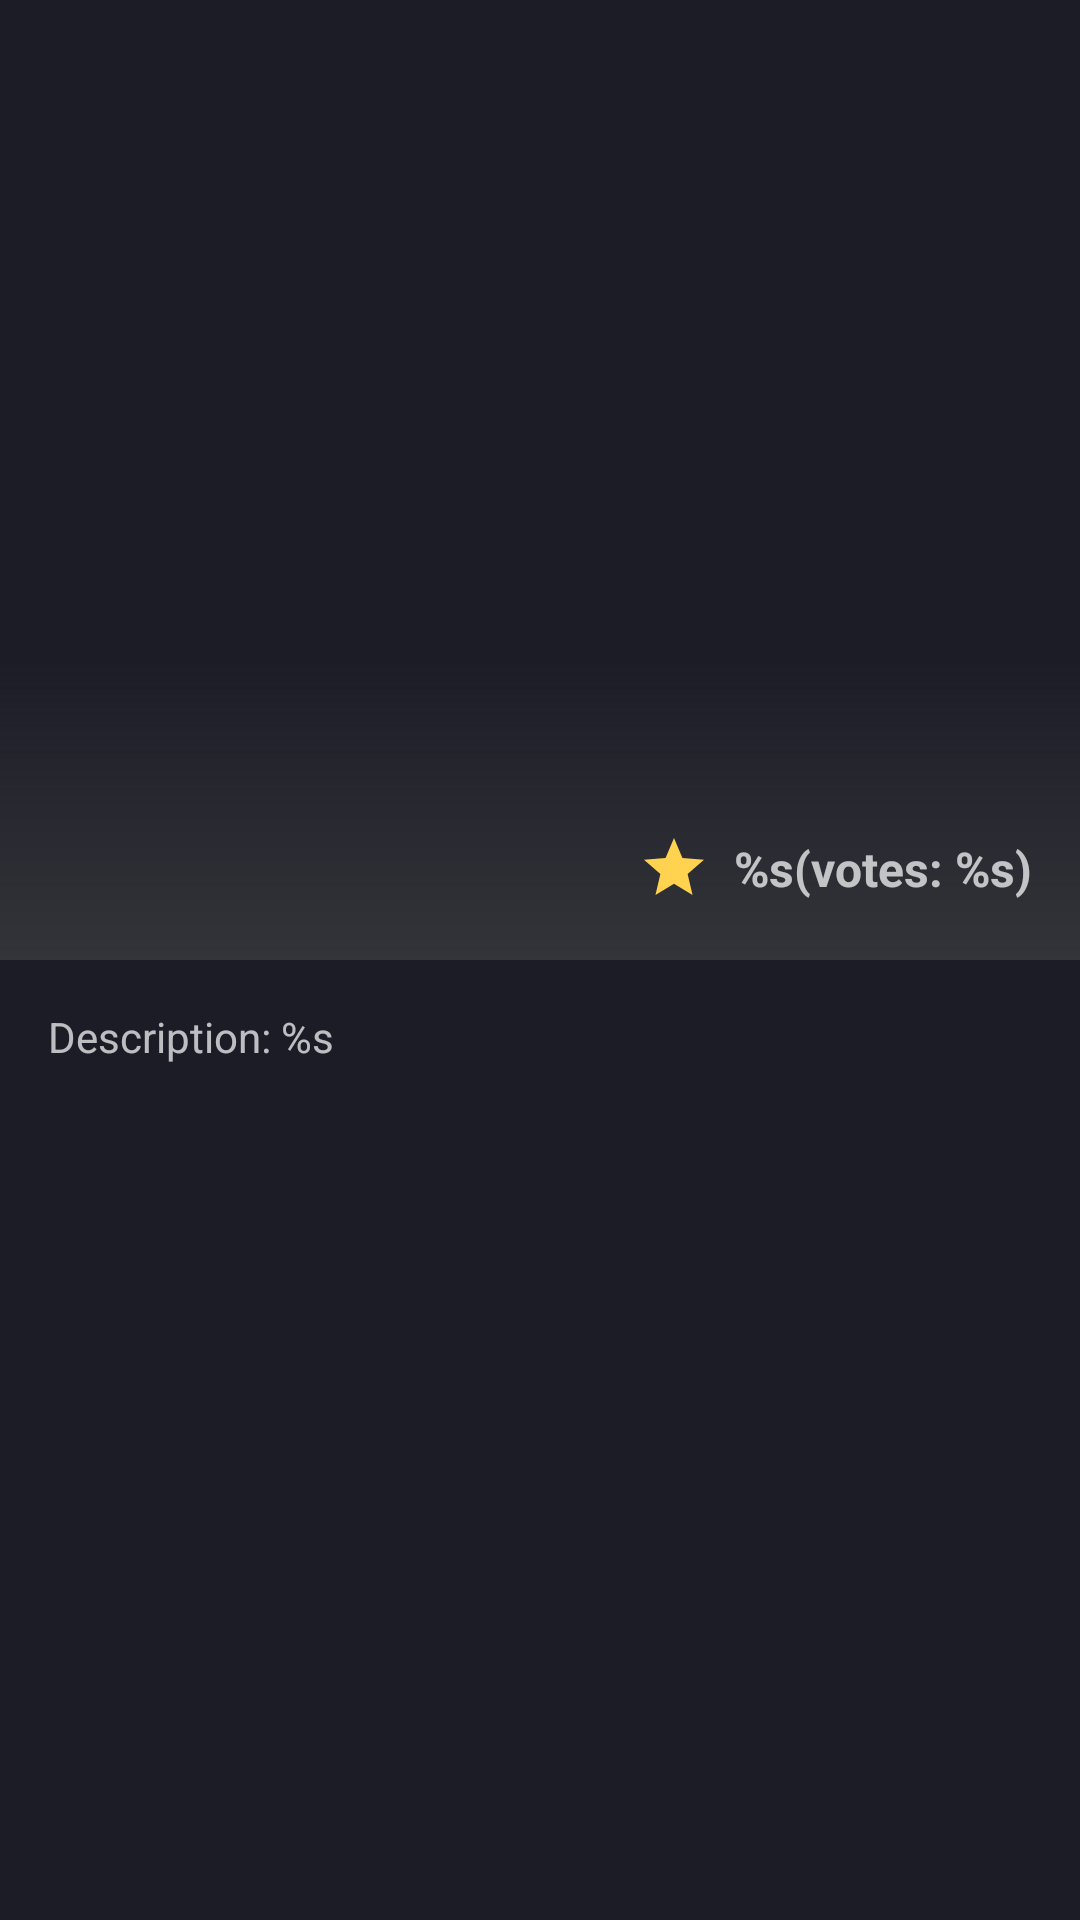

Screen size 1080px x 1920px. Icon name, then its box in pixels as BBox(x1, y1, x2, y2):
star: BBox(644, 838, 704, 895)
